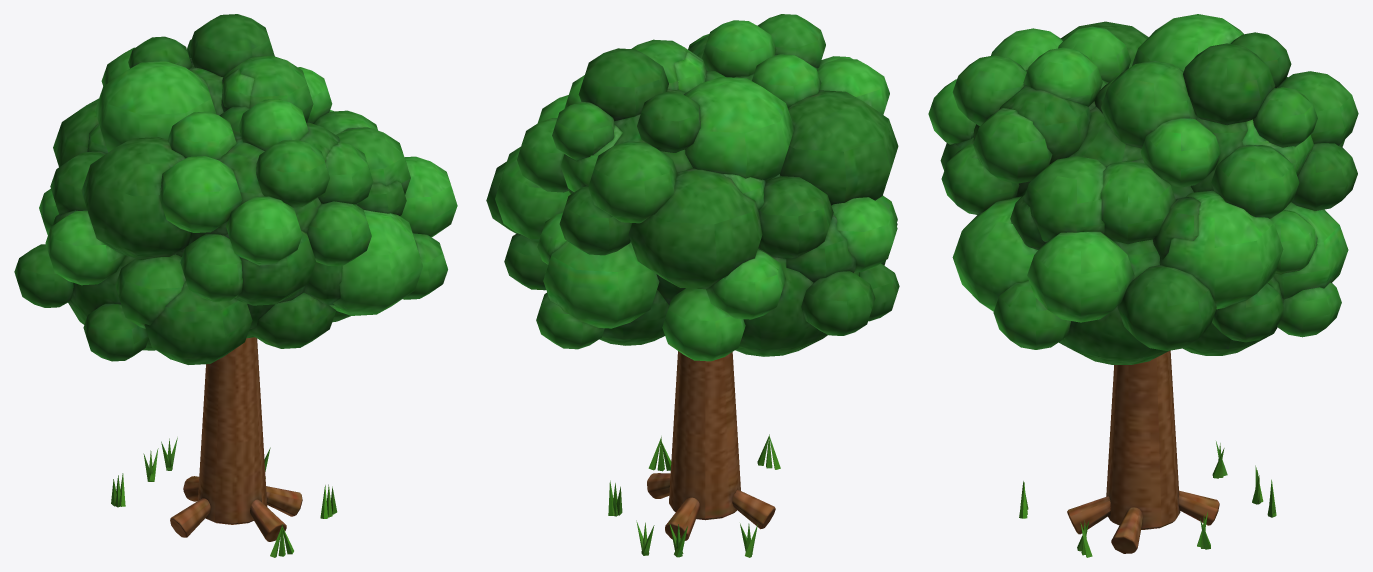
File: macadamia_tree.glb
3 views of the same model, side by side, from view 1: azimuth 30°, elevation 25°; view 2: azimuth 150°, elevation 25°; view 3: azimuth 270°, elevation 25° (orthographic). The views are drawn at different scales.
Visible parts, largest first — view 1: crown, macadamia_tree; view 2: crown, macadamia_tree; view 3: crown, macadamia_tree.
Boxes of the visible parts, x1=… form: crown: x1=14, y1=14, x2=457, y2=364; macadamia_tree: x1=111, y1=337, x2=337, y2=557; crown: x1=486, y1=14, x2=899, y2=361; macadamia_tree: x1=608, y1=351, x2=780, y2=557; crown: x1=928, y1=14, x2=1358, y2=364; macadamia_tree: x1=1019, y1=350, x2=1276, y2=557.
Bounding box in the file's own units: 1.13 × 1.31 × 1.03.
Materials: 1 (1 with a texture image).
